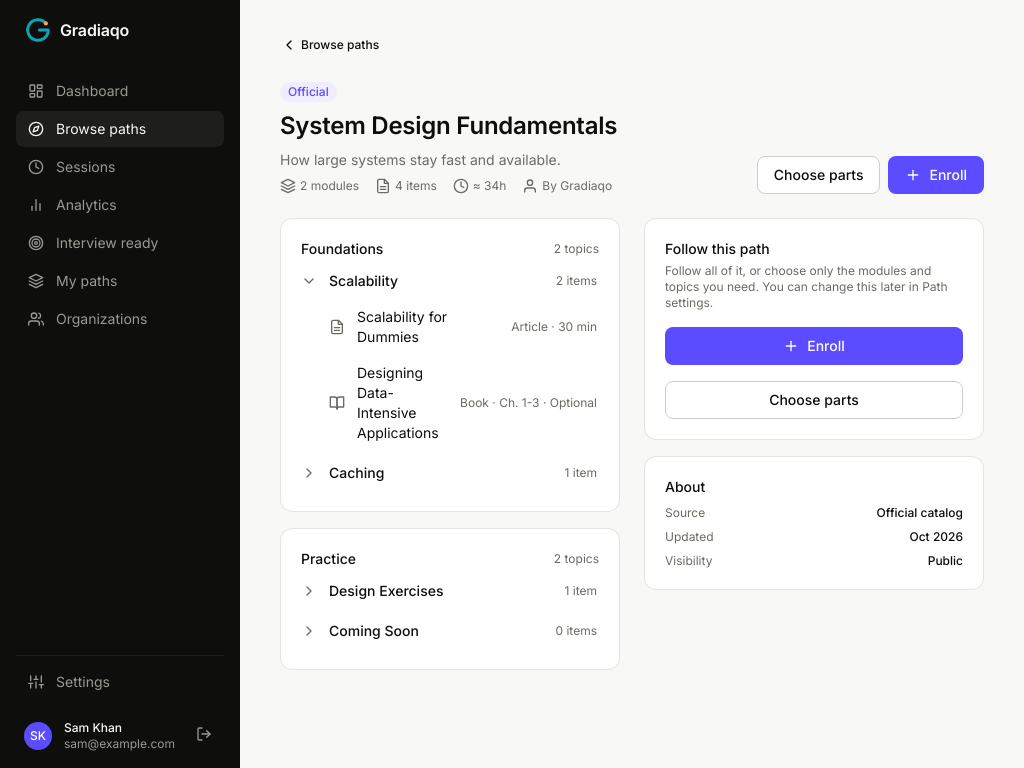
Test: PathPreviewPage › needs at least one topic, and can be closed
The width and height of the screenshot is (1024, 768).
What coordinates should you click on to do the following:
click the button "Choose parts" below "Follow this path"
I would click on:
 (814, 400)
Its box is [665,381,963,419].
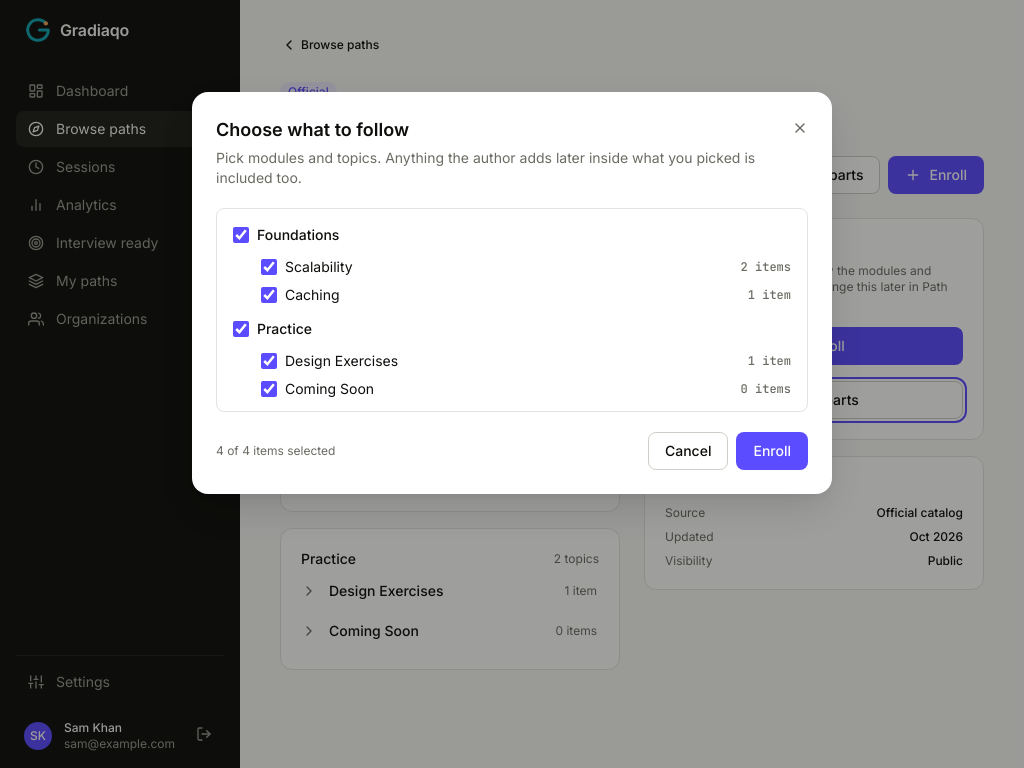
What coordinates should you click on to do the following:
click the checkbox labelled "Foundations"
I would click on:
 (241, 235)
Its box is [233,227,249,243].
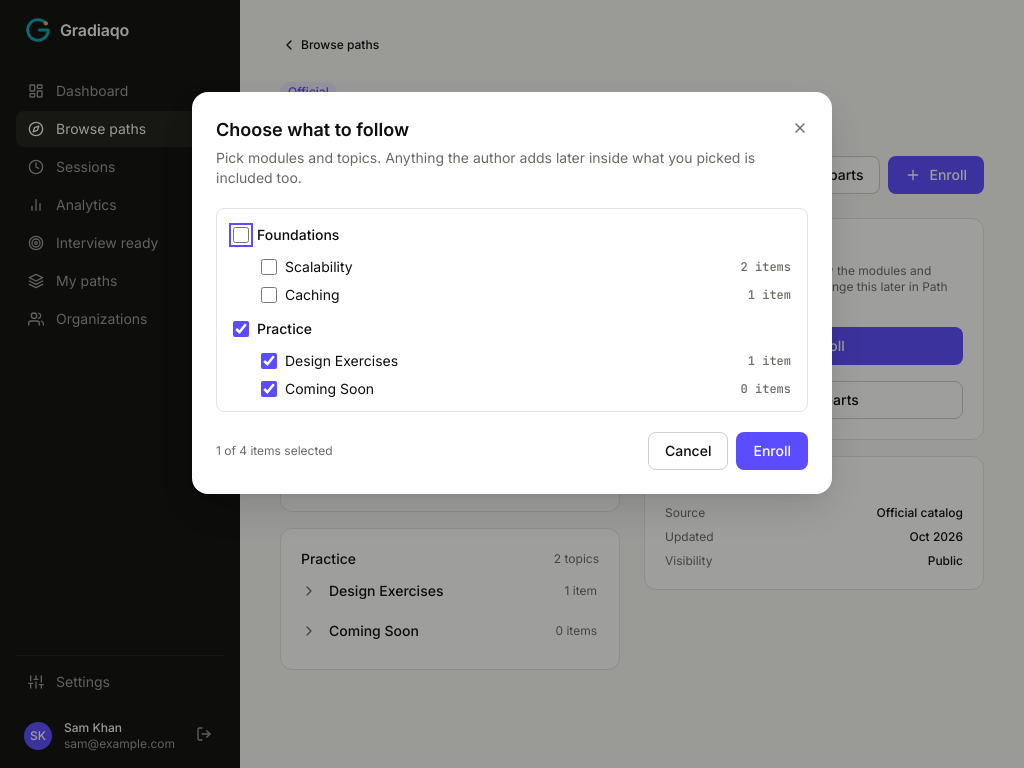
What coordinates should you click on to do the following:
click the checkbox labelled "Practice"
I would click on:
 (241, 329)
Its box is [233,321,249,337].
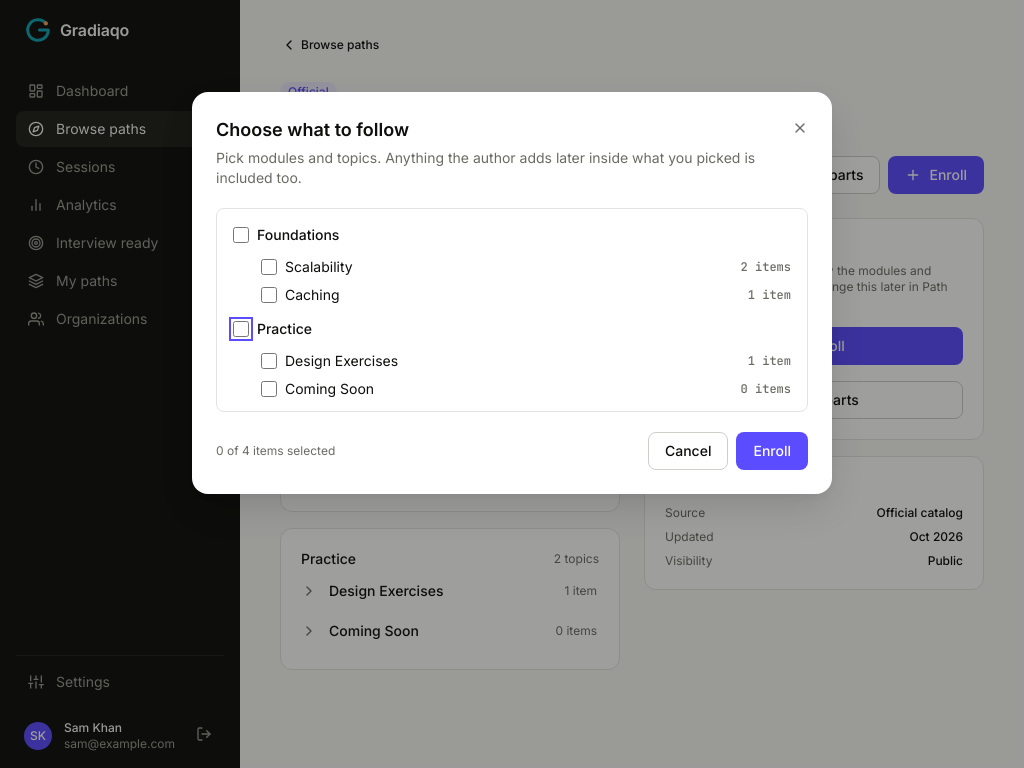
Check: the dialog shows "0 of 4 items selected", box [216,443,335,458]
What coordinates should you click on to do the following:
click the button "Enroll"
I would click on:
 (772, 451)
Its box is [736,432,808,470].
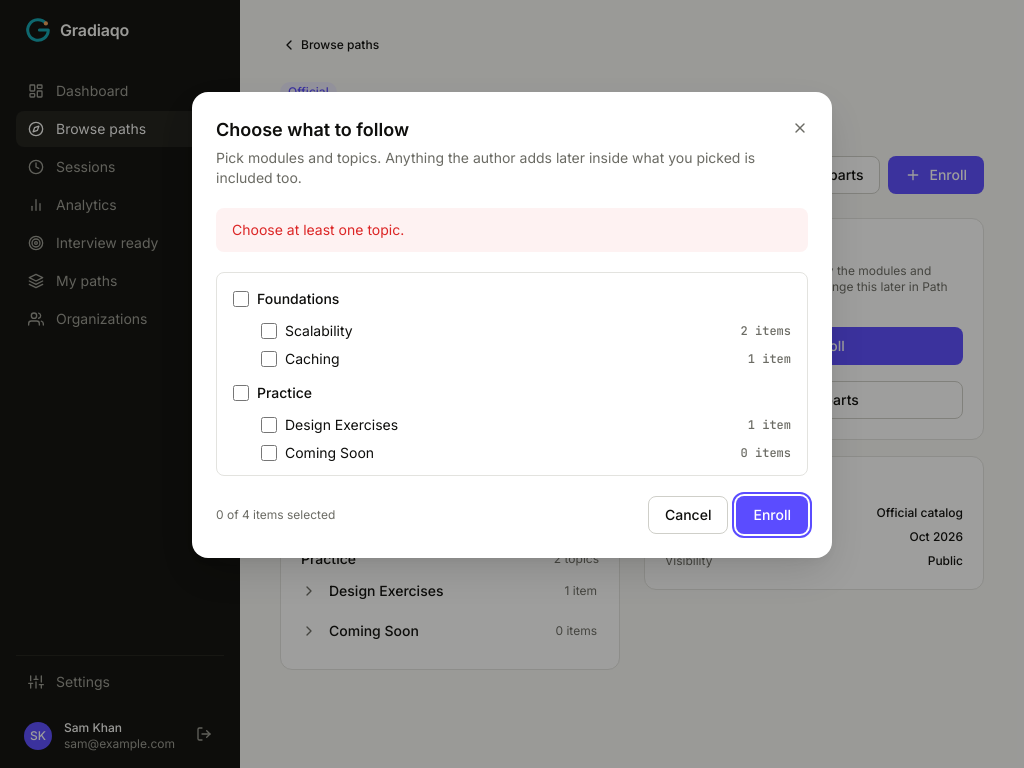
Check: the message reads "Choose at least one topic.", box [232,221,404,238]
What coordinates should you click on to do the following:
click the button "Cancel"
I would click on:
 (688, 515)
Its box is [648,496,728,534].
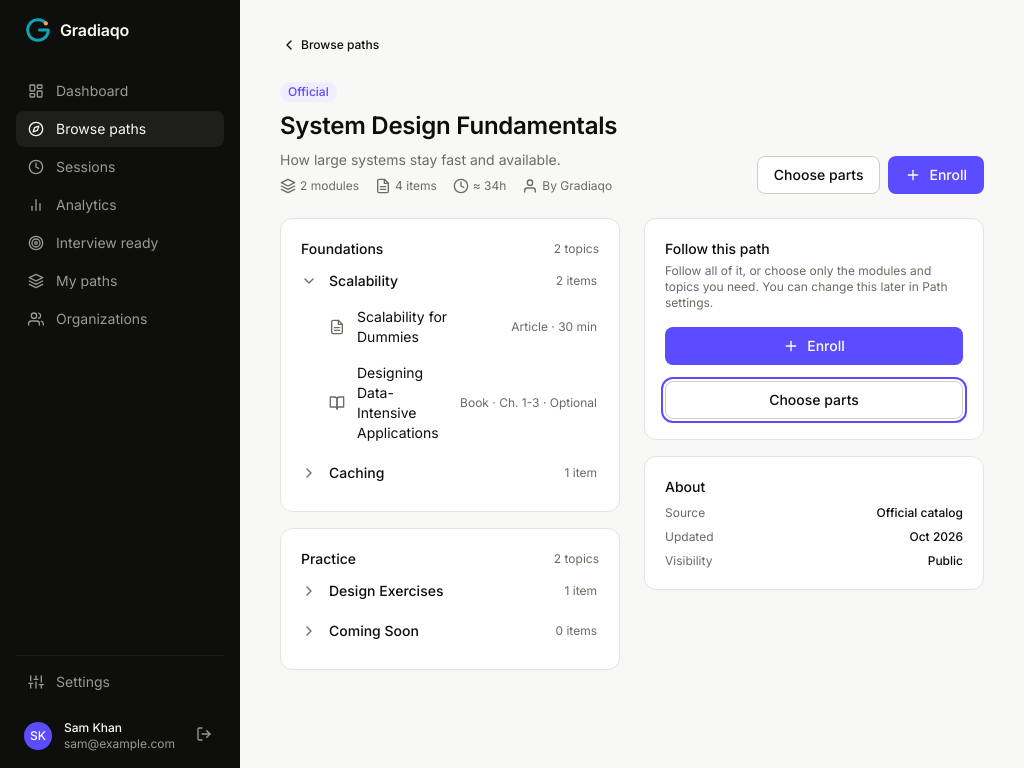
Check: the dialog is gone
